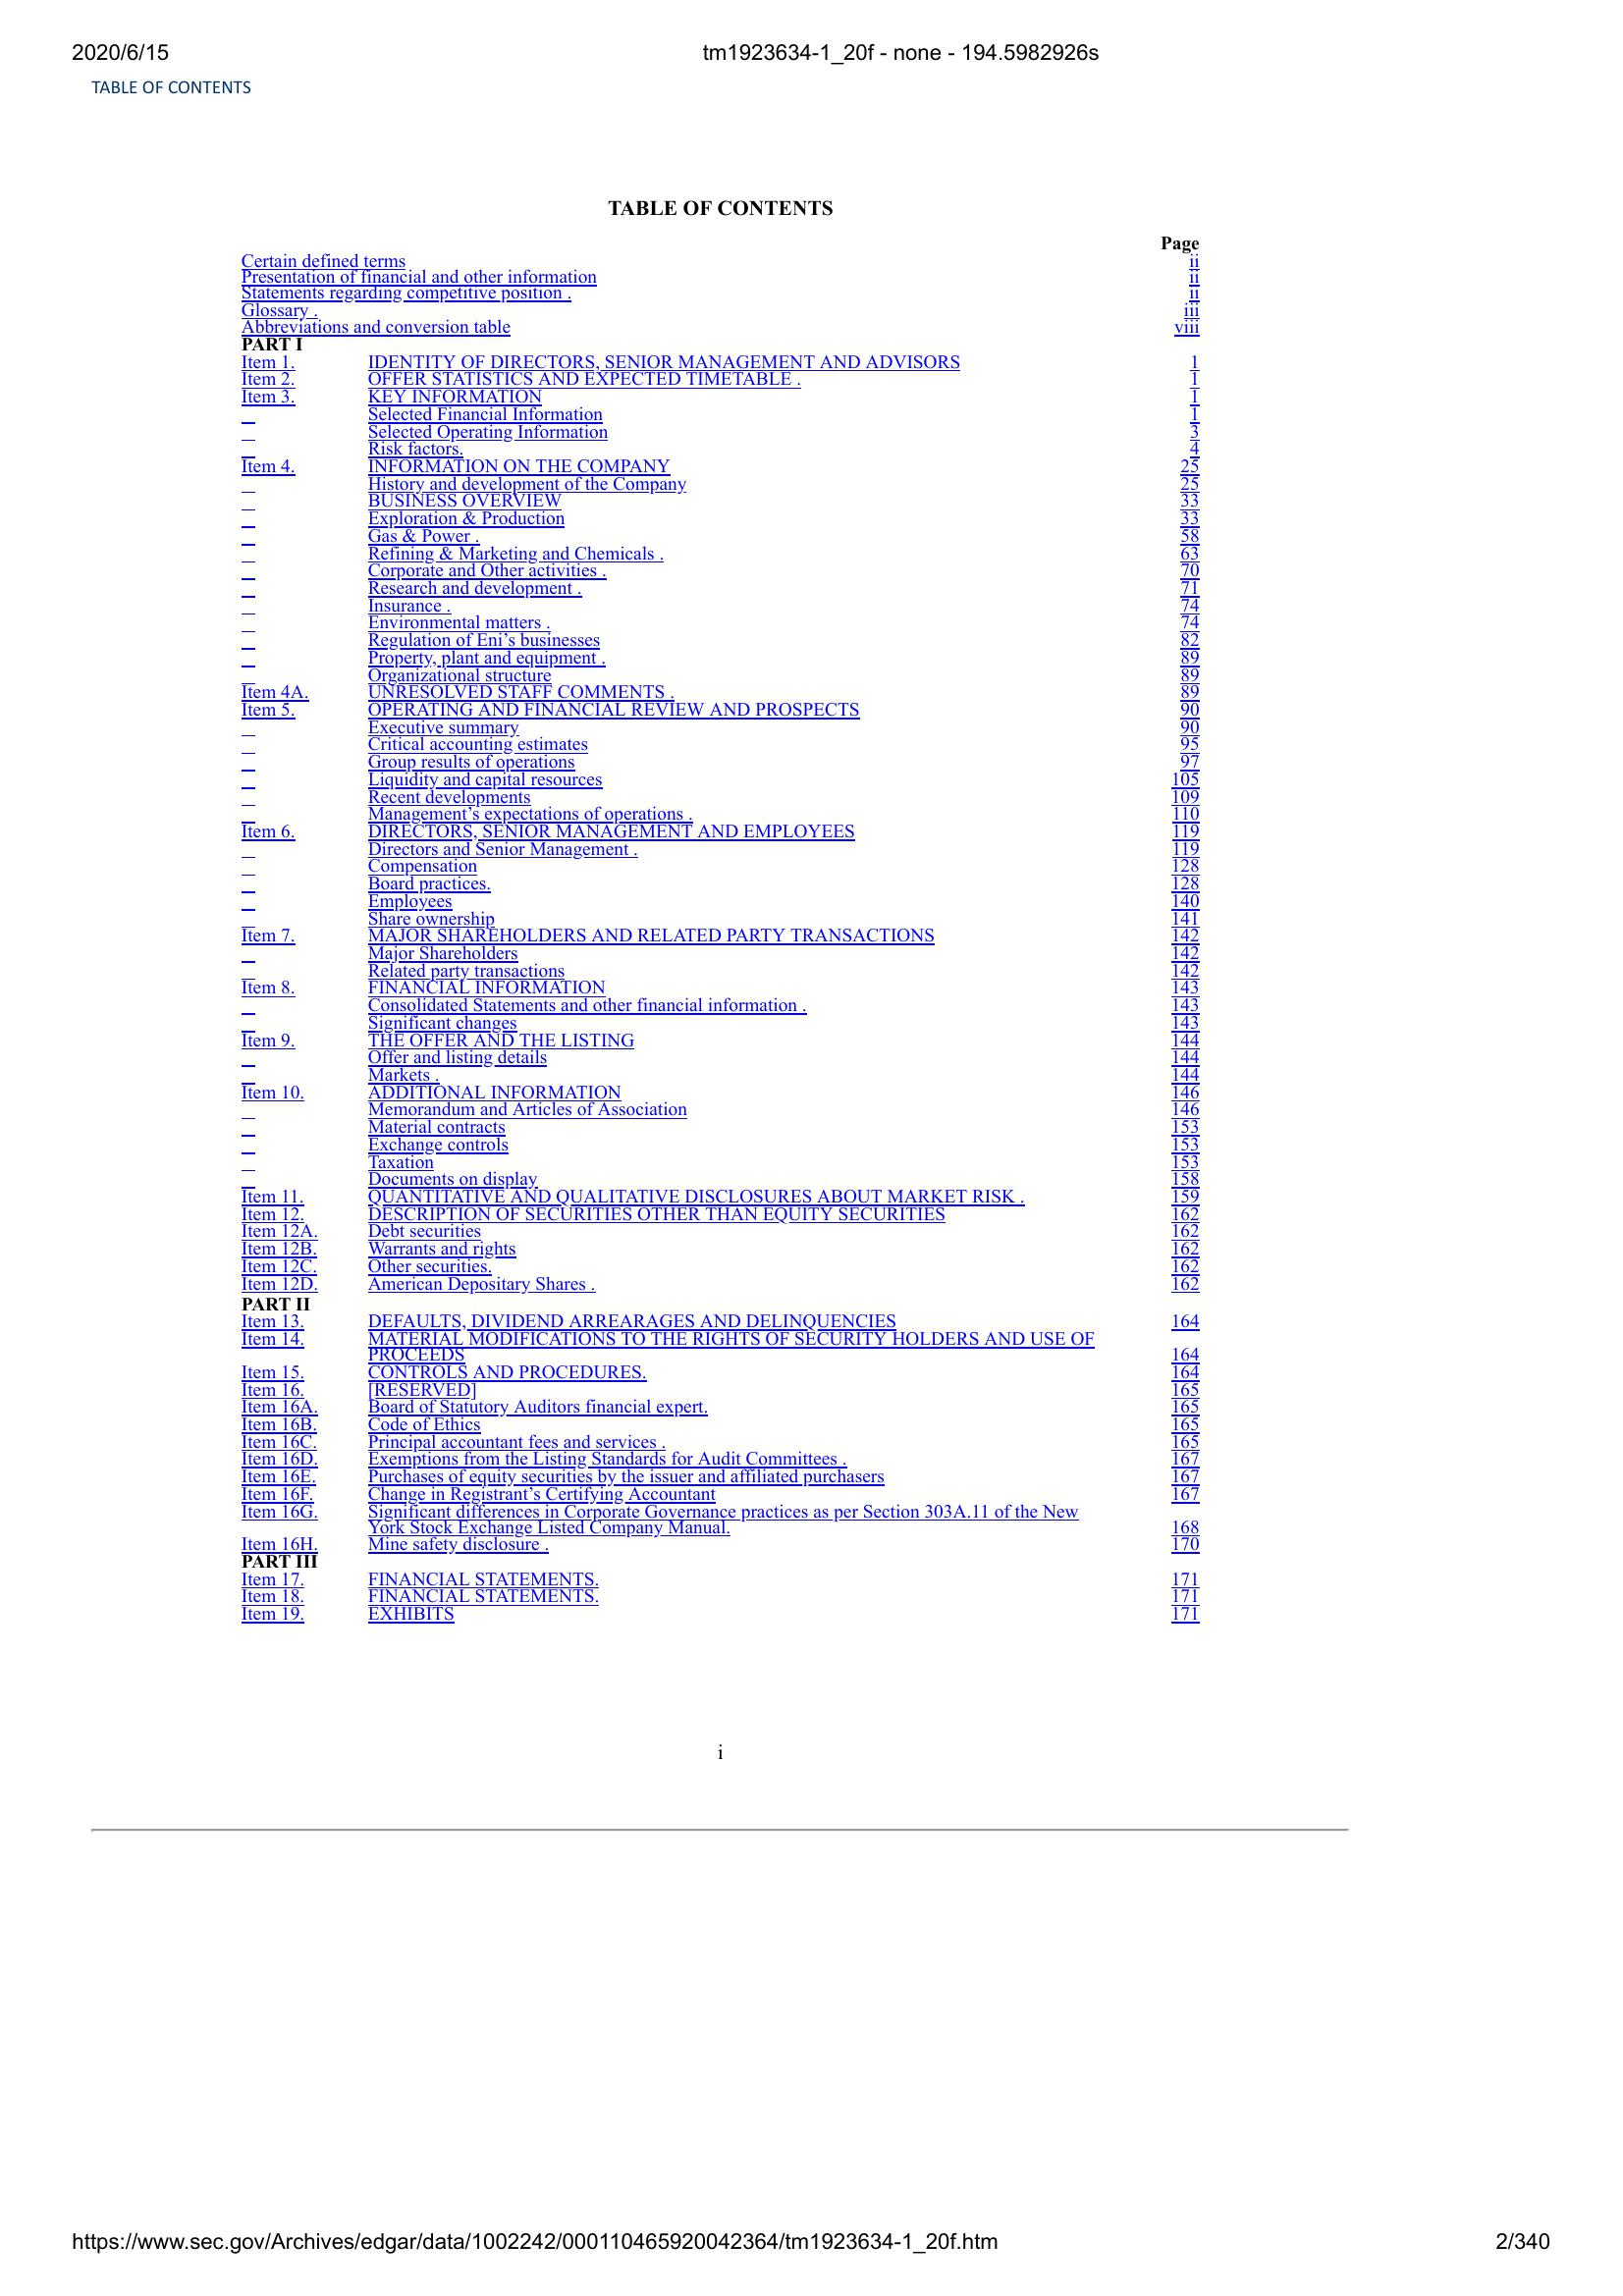table: (228, 228, 1215, 1634)
